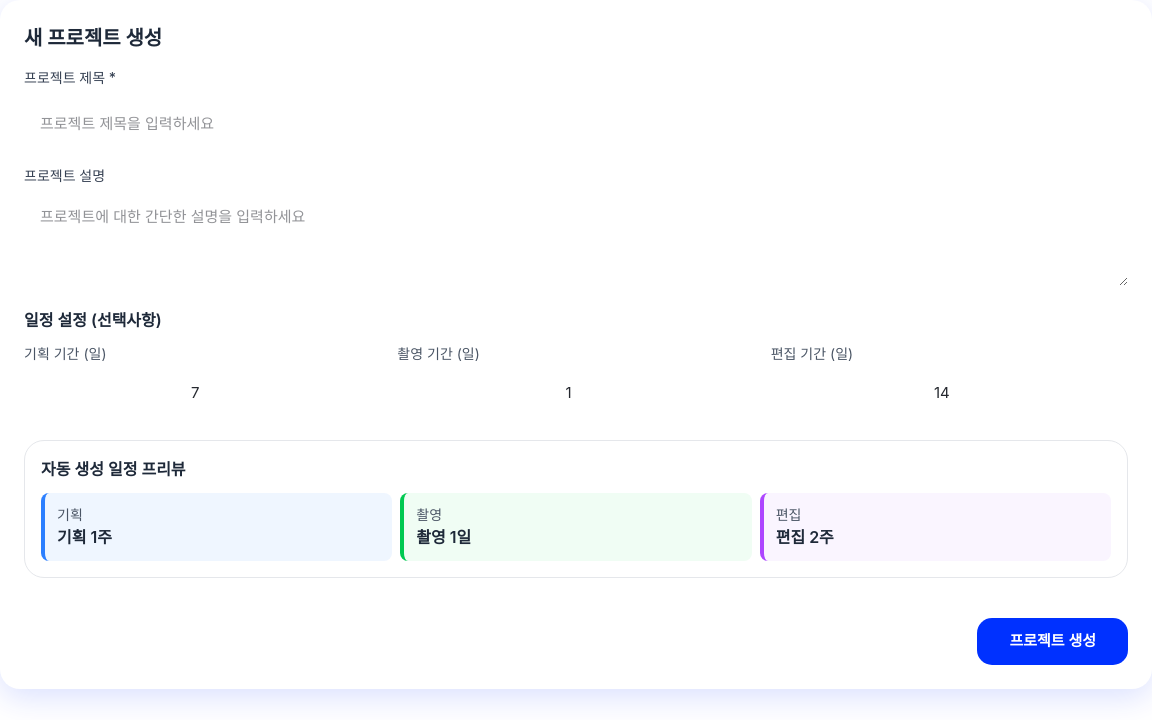
it: ProjectForm - TDD Red Phase › 🔴 RED: 실패하는 테스트 작성 (컴포넌트 미구현) › 프로젝트 생성 중 로딩 상태가 표시되어야 함
Type "Test Project" into the field labelled "프로젝트 제목 *". click: x=576, y=123
box: [24,96,1128,150]
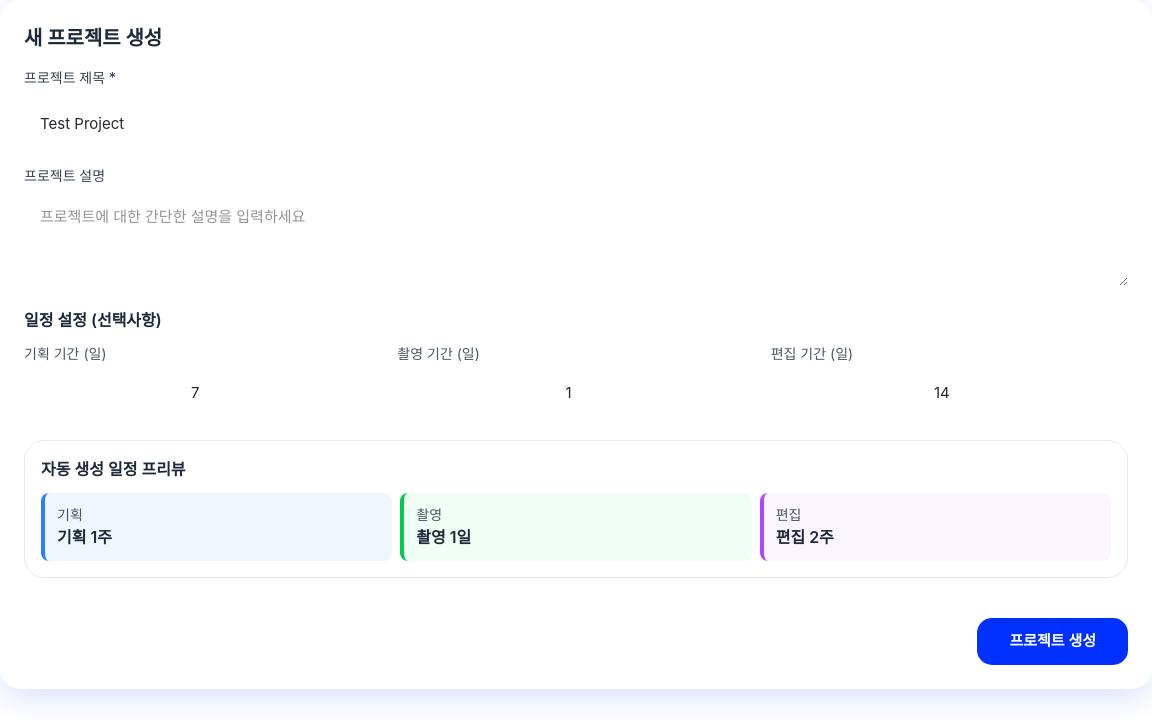
Note:  폼 제출 시작
Click the button "프로젝트 생성". click: x=1053, y=641
box: [977,618,1128,664]
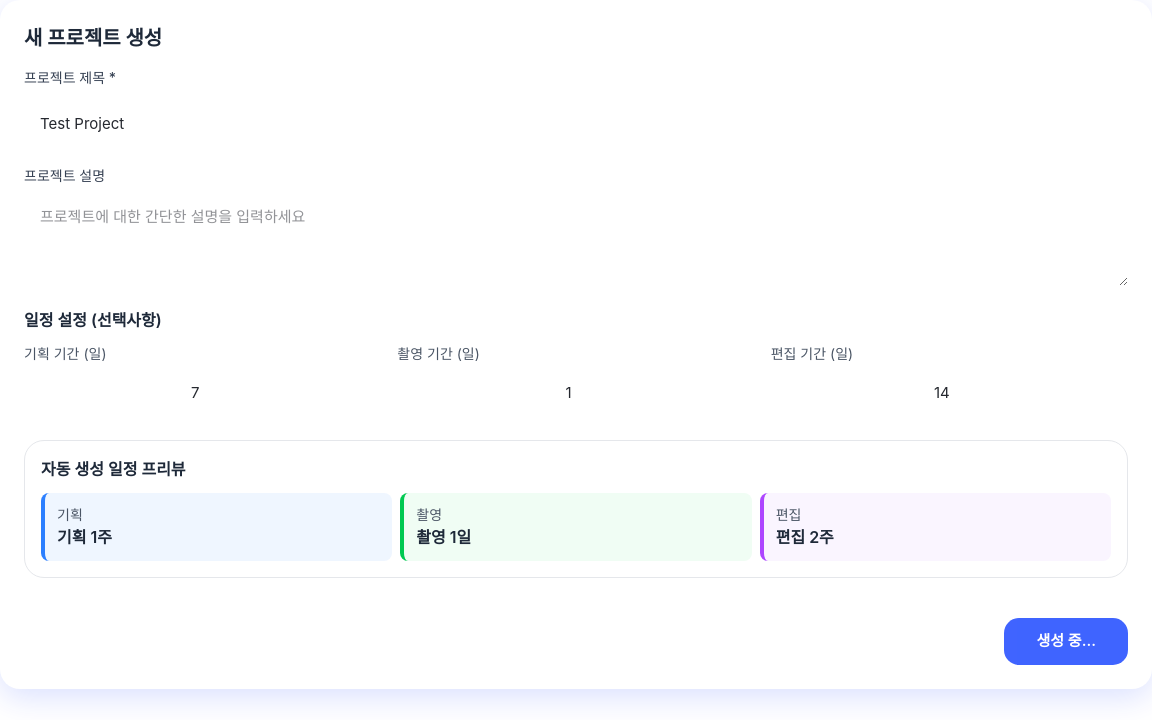
Now the button "생성 중..." is disabled, box [1004,618,1128,664]
